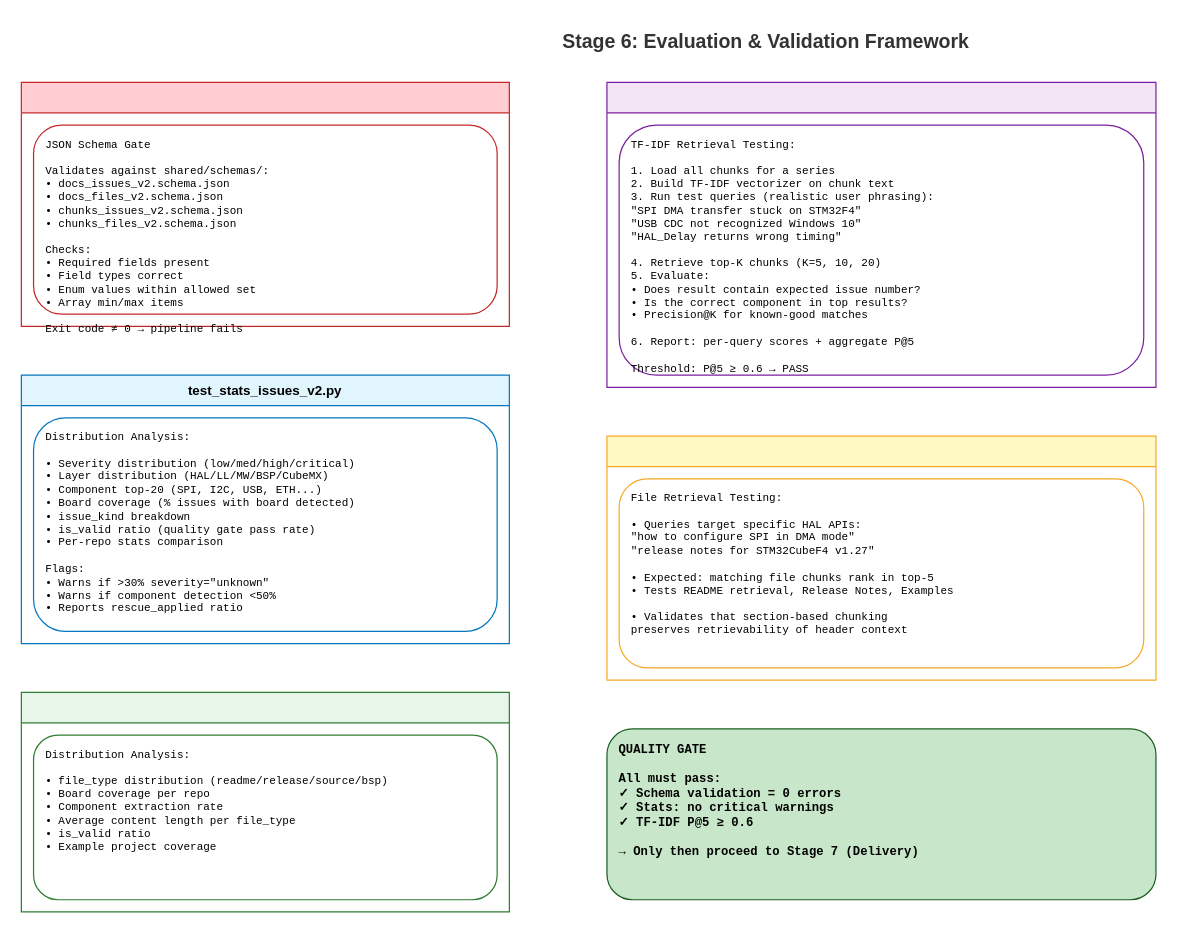
Image size: 1177x933. Some labels were removed from this diagram. The box of each missing label's shape, as (x1, y1, x2, y2) in pixels:
test_stats_files_v2.py: (20, 691, 509, 912)
test_tfidf_search_files_v2.py: (606, 435, 1156, 680)
test_tfidf_search_issues_v2.py: (606, 81, 1156, 387)
validate_schemas.py: (20, 81, 509, 326)
